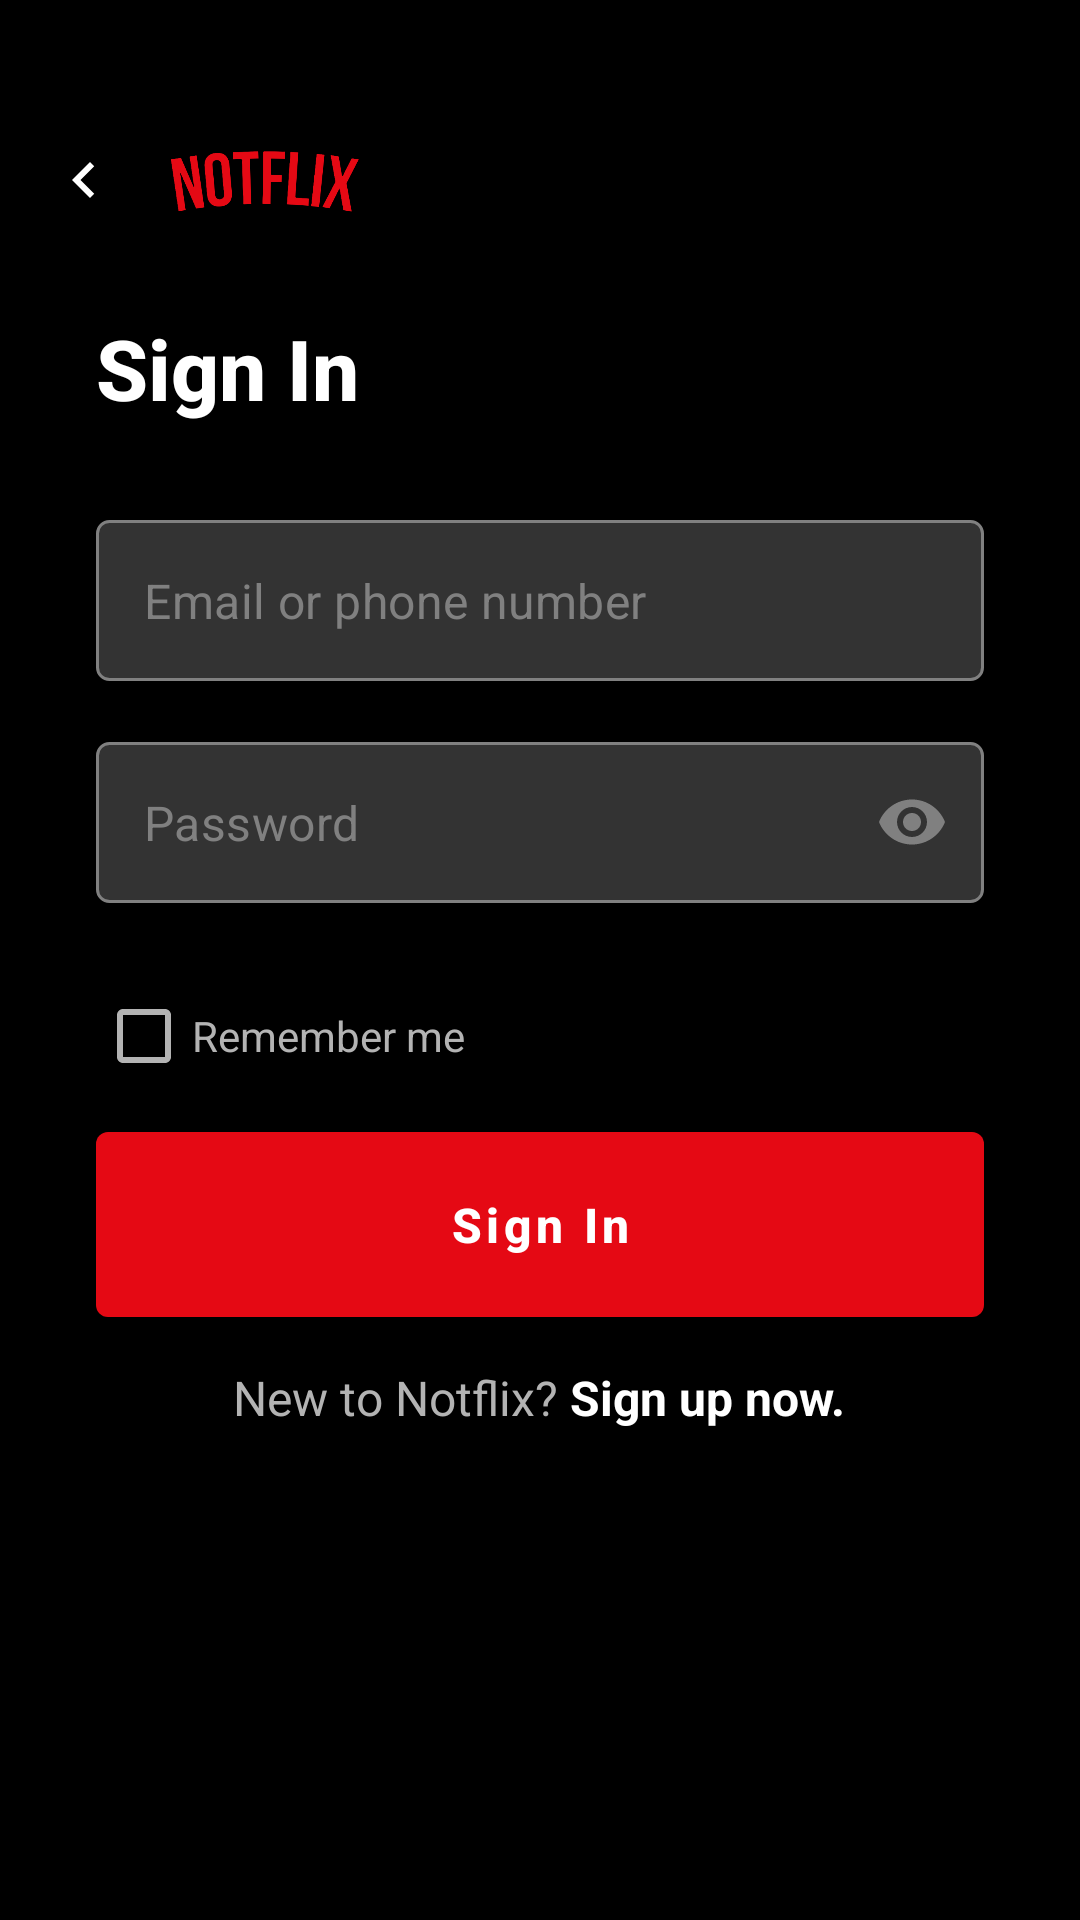

Icons on this 1080px x 1920px Android screen, each with the point to tap as (x,y):
Back: (83,180)
